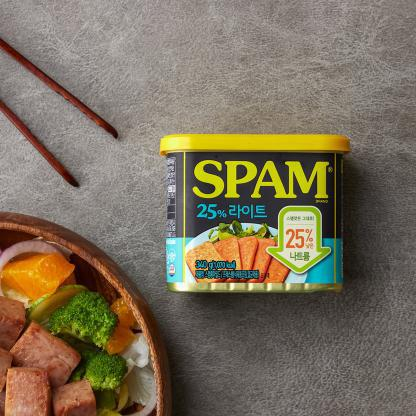spam: (158, 124, 351, 299)
